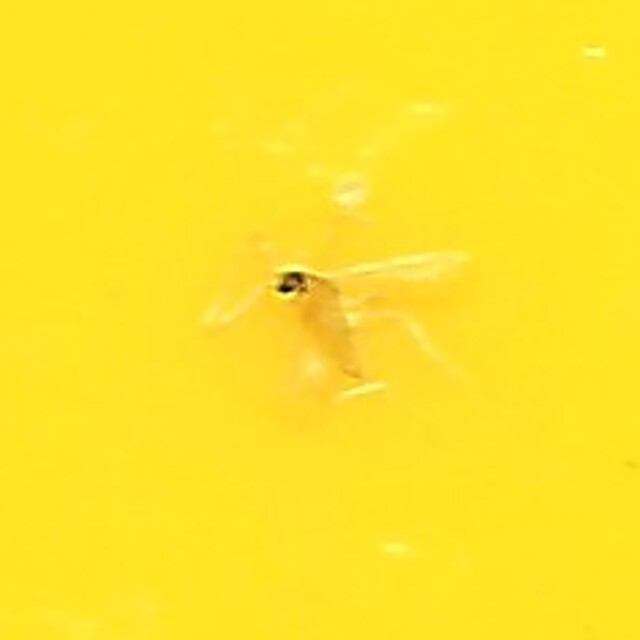Nematocera: (272, 254, 368, 386)
